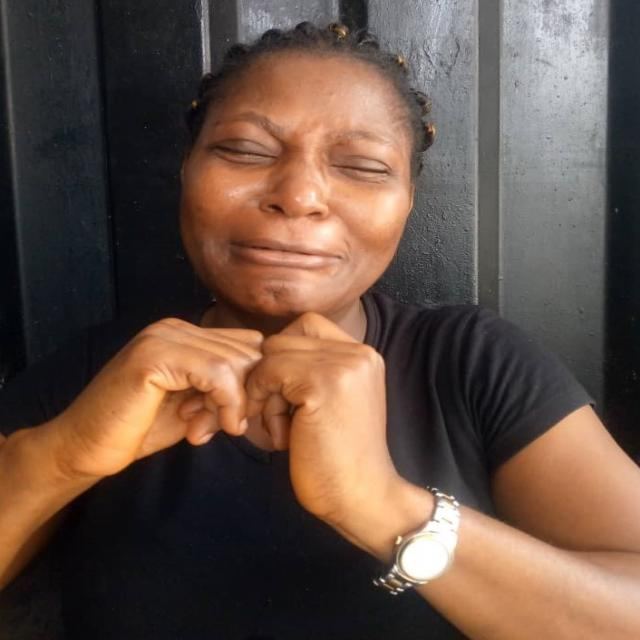sad: (164, 18, 428, 324)
